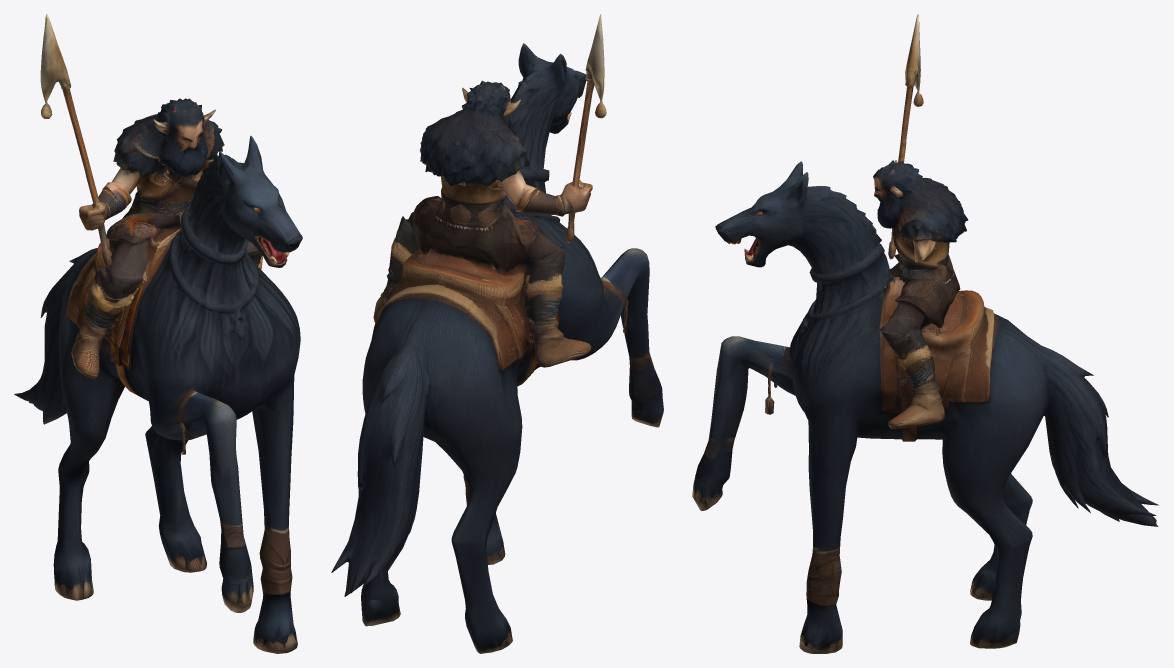
File: wolfrider.glb
3 views of the same model, side by side, from view 1: azimuth 30°, elevation 25°; view 2: azimuth 150°, elevation 25°; view 3: azimuth 270°, elevation 25° (orthographic). The views are drawn at different scales.
Bounding box in the file's own units: 0.7524 × 1.91 × 1.45.
1 material, 1 textured.
